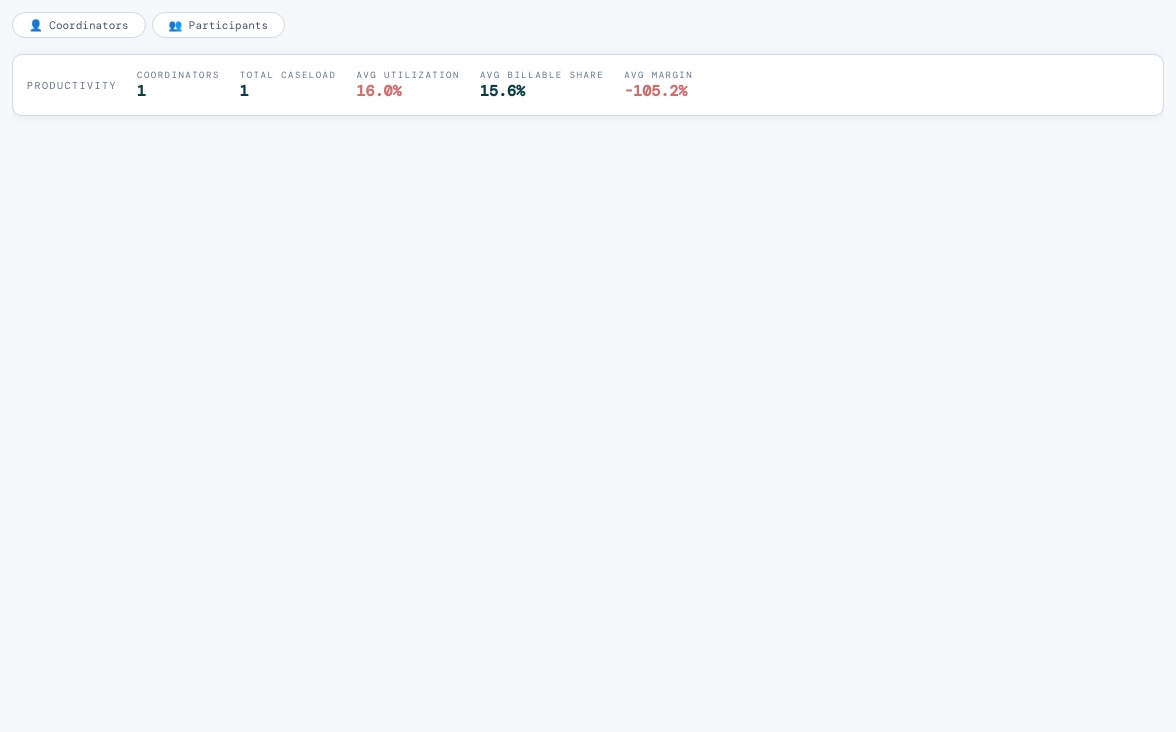
Test: TSCCurrentServicesTab — Coordinators inner tab › renders a coordinator card with participants without crashing
This screenshot has width=1176, height=732.
# Click the Coordinators toggle to expand the coordinator card.
Click the button "👤 Coordinators".
click(79, 25)  # box x1=12 y1=12 x2=146 y2=38
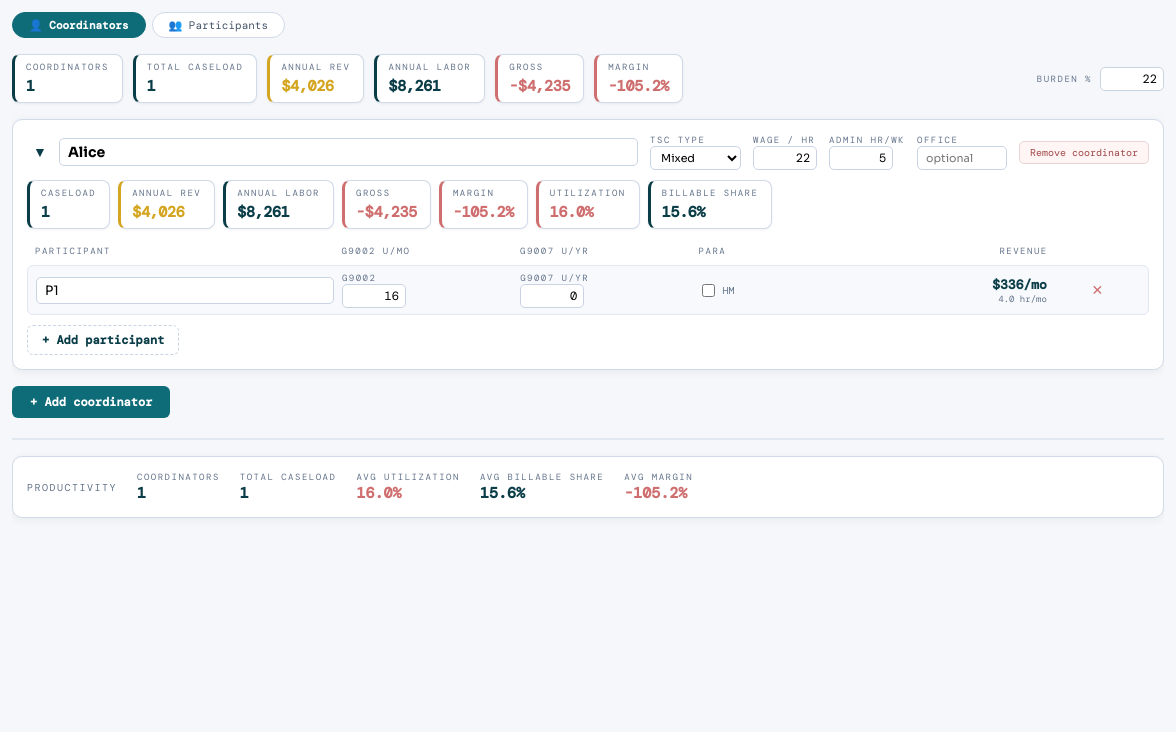
Now the field showing "Alice" next to "TSC type" is shown, box x1=59 y1=138 x2=638 y2=166
Now the text "$336/mo" is shown, box x1=992 y1=276 x2=1047 y2=292
